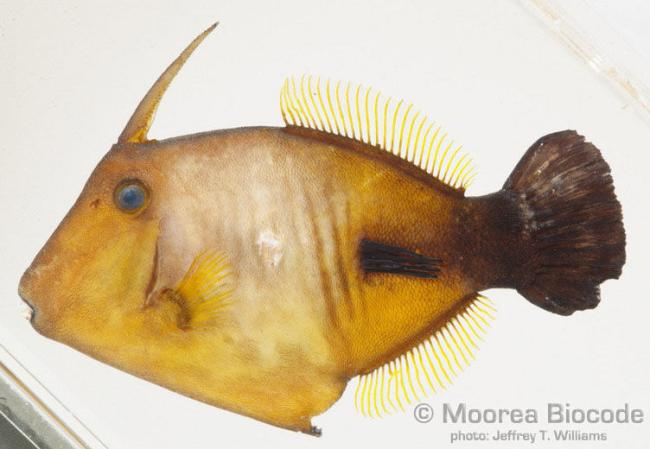fish: (18, 22, 628, 435)
